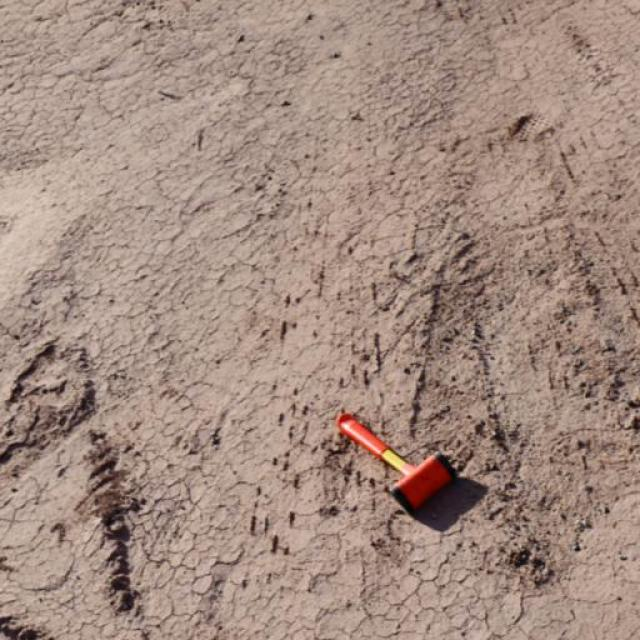mallet: (336, 410, 459, 514)
